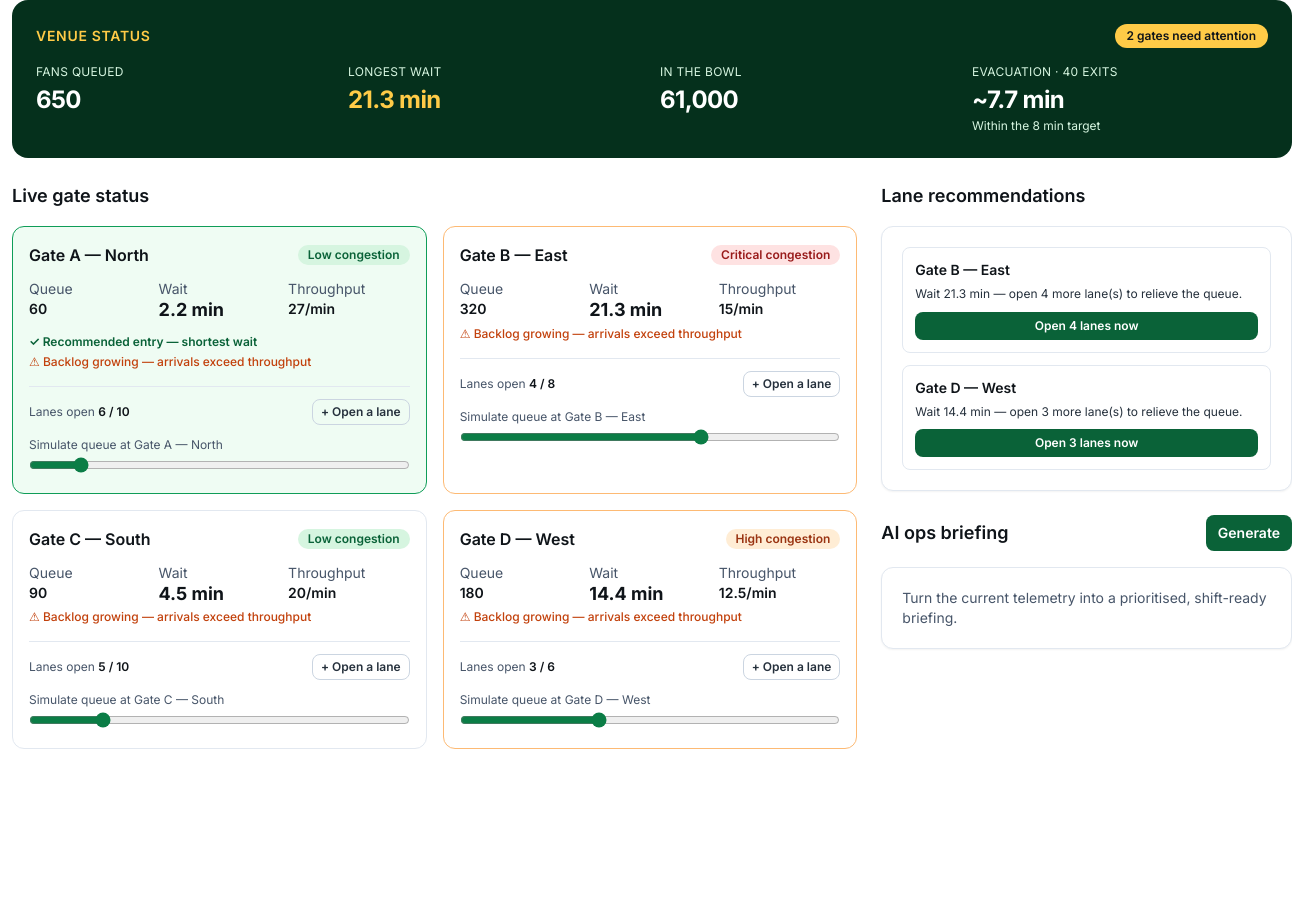
Test case: OpsDashboard — acting on recommendations › opens the lanes and clears the recommendation when the operator acts
The width and height of the screenshot is (1304, 900).
Click the button "Open 4 lanes now" at (1087,326), box [915,312,1258,340]
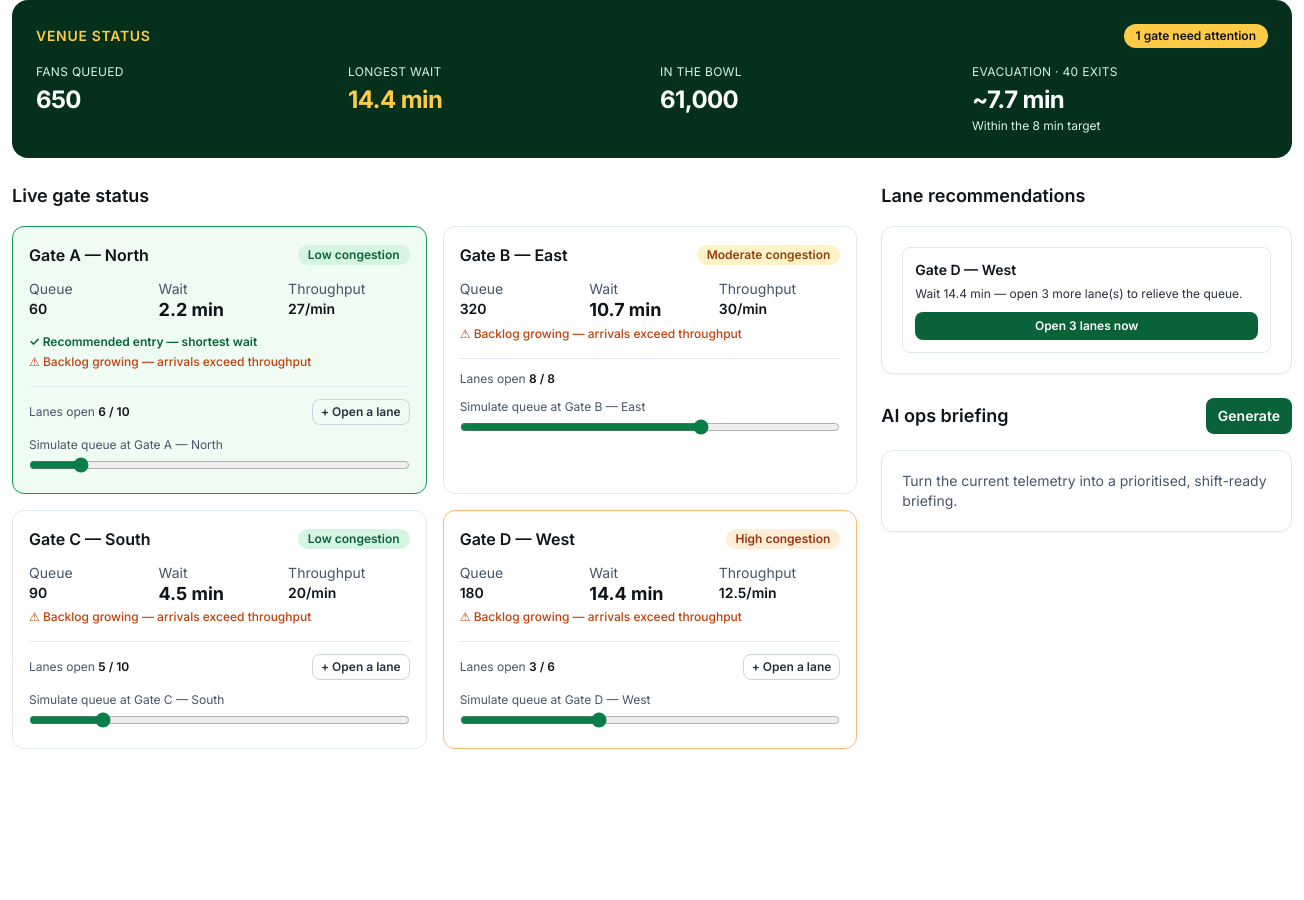
Now the text "8 / 8" is shown, box [529,370,555,386]
